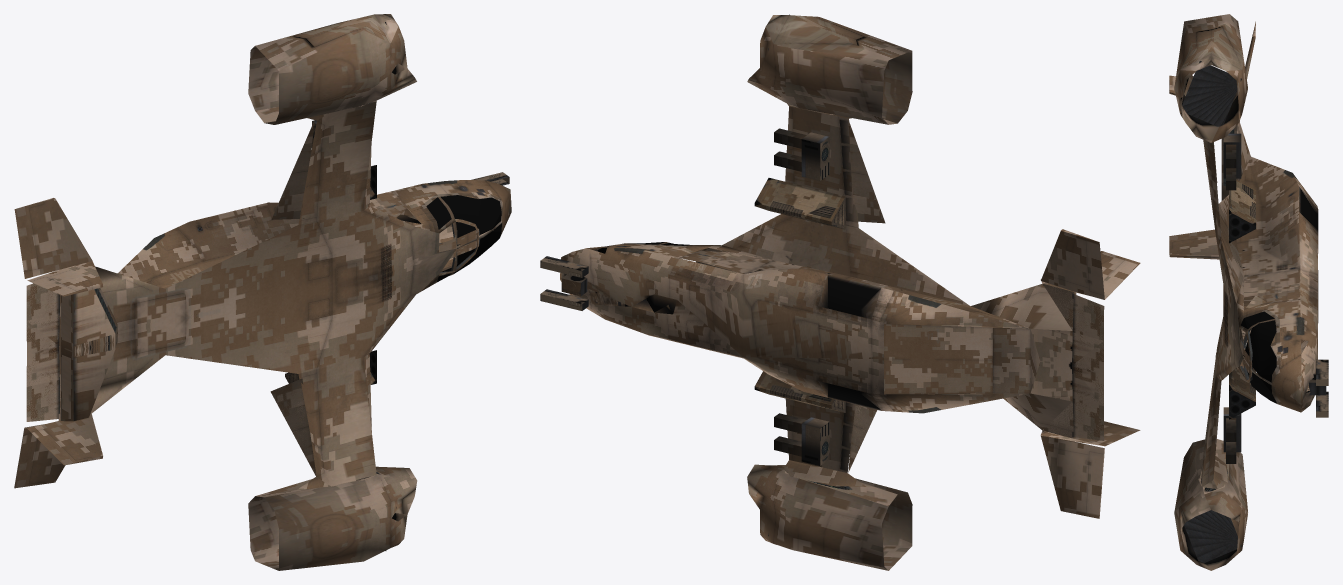
Rendered from veh_t6_air_v78_vtol_killstreak_LOD2.obj.
3 views of the same model, side by side, from view 1: azimuth 30°, elevation 25°; view 2: azimuth 150°, elevation 25°; view 3: azimuth 270°, elevation 25° (orthographic). The views are drawn at different scales.
Visible parts, largest first — view 1: mtl_veh_t6_v78_vtol_friend, mtl_veh_t6_air_fa38_glass_opaque, mtl_veh_t6_v78_vtol_guns_friend; view 2: mtl_veh_t6_v78_vtol_friend, mtl_veh_t6_v78_vtol_guns_friend; view 3: mtl_veh_t6_v78_vtol_friend, mtl_veh_t6_v78_vtol_guns_friend, mtl_veh_t6_air_fa38_glass_opaque, mtl_veh_t6_v78_vtol_interior.
Part boxes in pixels (left/top/right/bottom): mtl_veh_t6_v78_vtol_friend: left=14, top=14, right=511, bottom=570; mtl_veh_t6_air_fa38_glass_opaque: left=426, top=195, right=501, bottom=282; mtl_veh_t6_v78_vtol_guns_friend: left=285, top=120, right=509, bottom=384; mtl_veh_t6_v78_vtol_friend: left=560, top=14, right=1140, bottom=570; mtl_veh_t6_v78_vtol_guns_friend: left=540, top=128, right=845, bottom=465; mtl_veh_t6_v78_vtol_friend: left=1169, top=14, right=1318, bottom=570; mtl_veh_t6_v78_vtol_guns_friend: left=1223, top=133, right=1328, bottom=463; mtl_veh_t6_air_fa38_glass_opaque: left=1241, top=311, right=1276, bottom=403; mtl_veh_t6_v78_vtol_interior: left=1240, top=328, right=1252, bottom=383.
Bounding box in the file's own units: 1954 × 1912 × 538.
